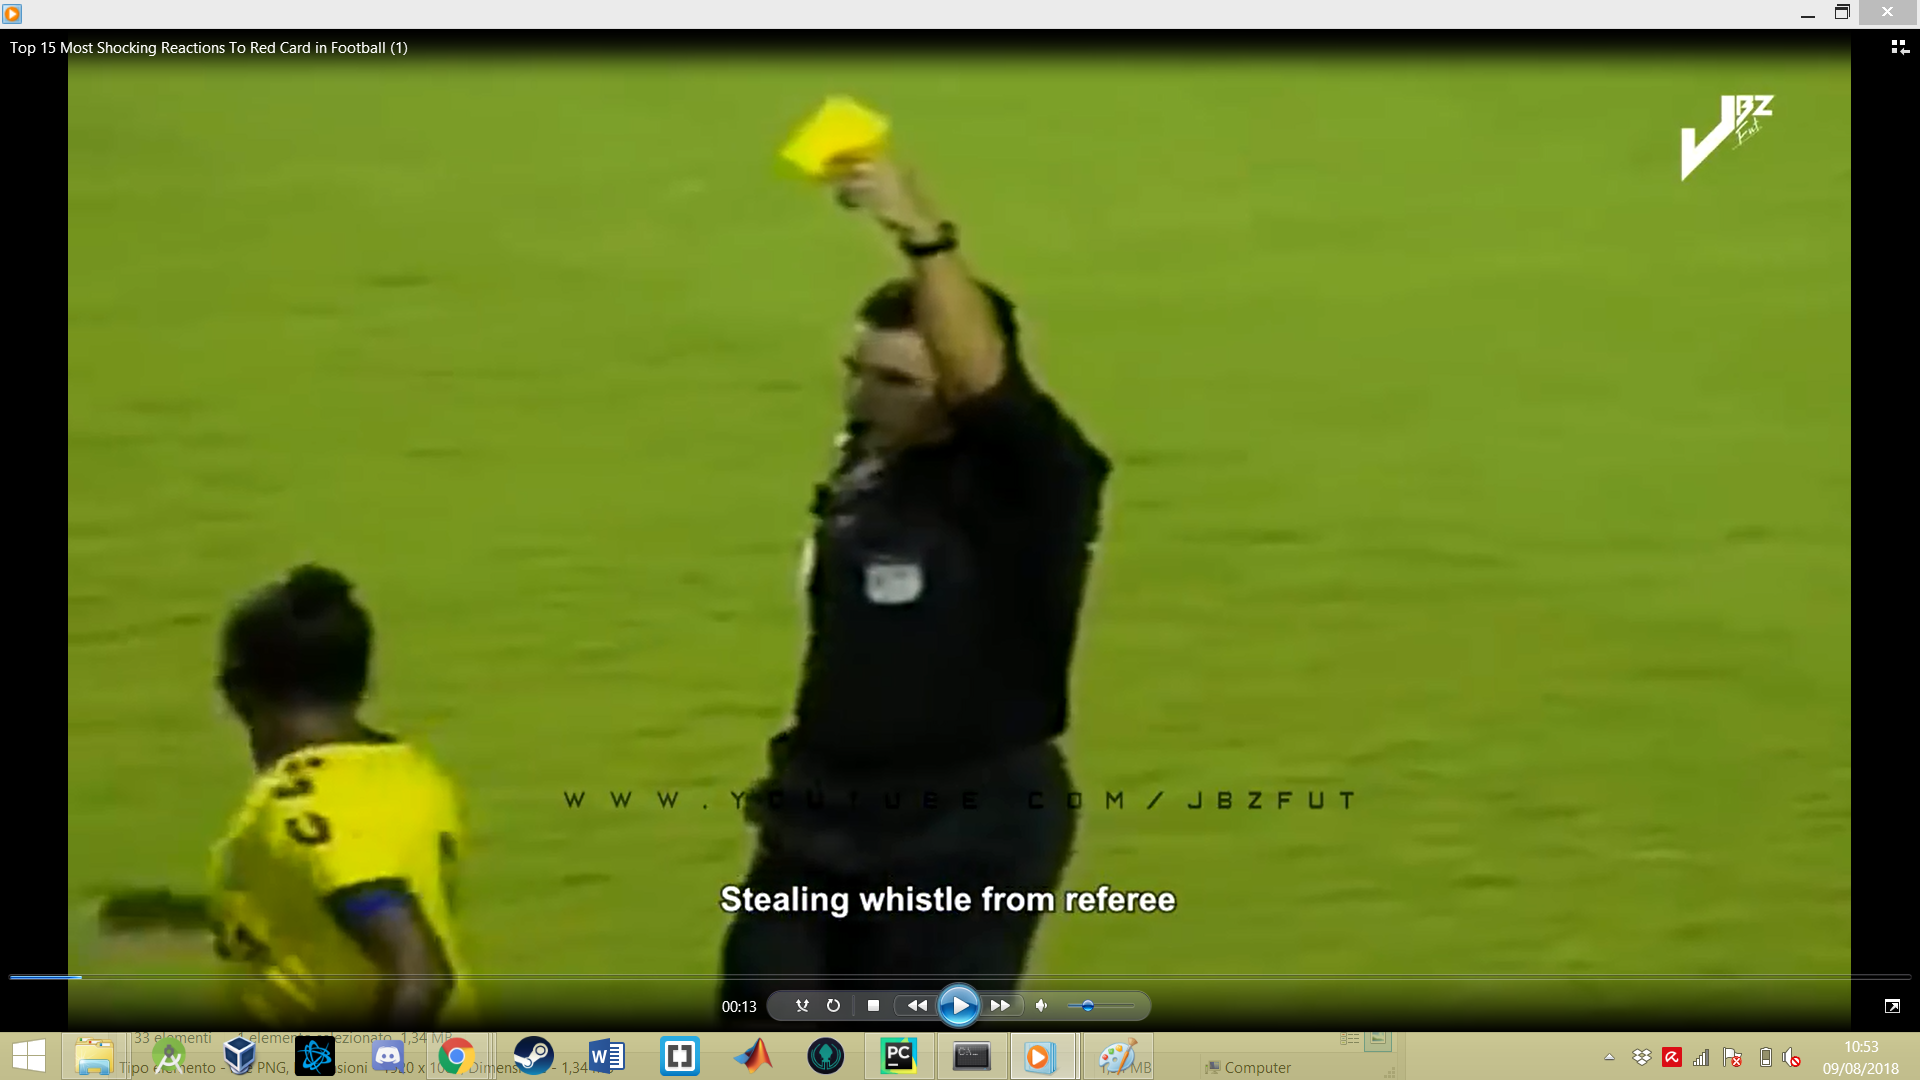yellow_card: (775, 82, 924, 228)
